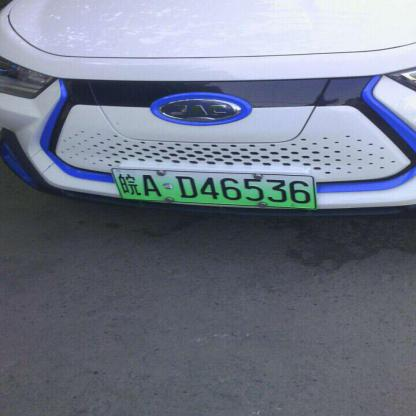lp: (110, 169, 318, 210)
